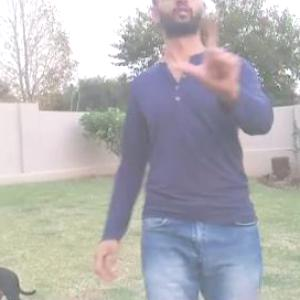land_hand: (176, 11, 252, 99)
